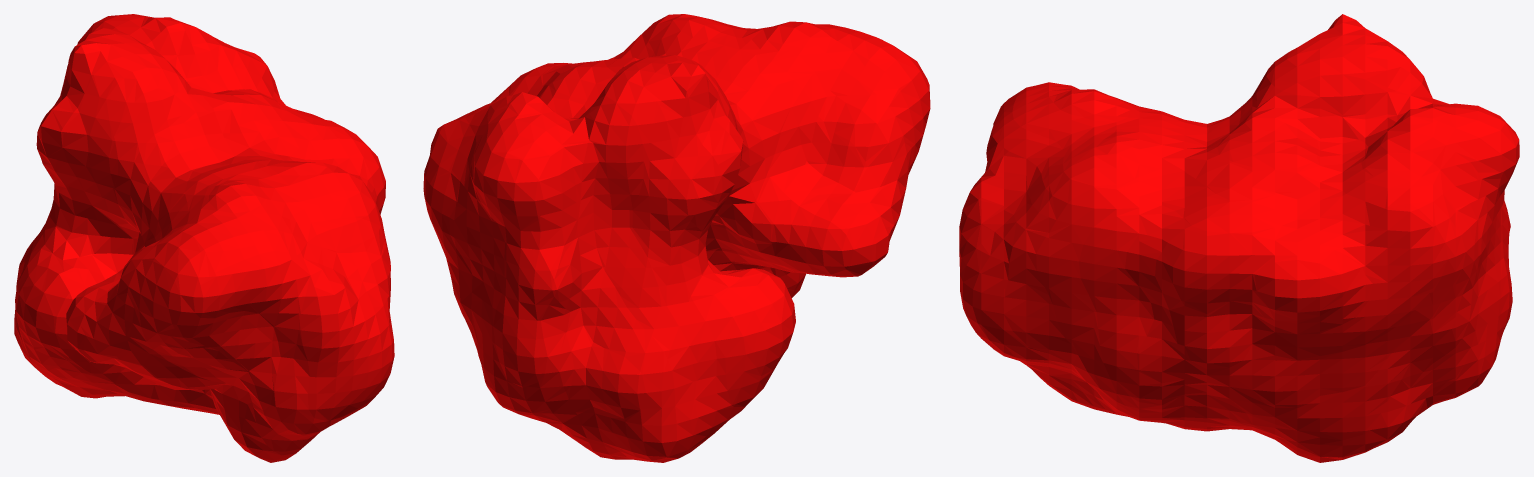
Rendered from tdh_coarse.dae.
The picture shows the model from 3 angles, left to right: view 1: azimuth 30°, elevation 25°; view 2: azimuth 150°, elevation 25°; view 3: azimuth 270°, elevation 25°; orthographic projection. The views are drawn at different scales.
Parts seen in each view (by area): view 1: tdh; view 2: tdh; view 3: tdh.
Part boxes in pixels (bbox=[...]): tdh: bbox=[14, 14, 394, 462]; tdh: bbox=[423, 14, 930, 462]; tdh: bbox=[959, 14, 1519, 462].
Size of the model in its own units: 49.55 by 50.74 by 67.97.
